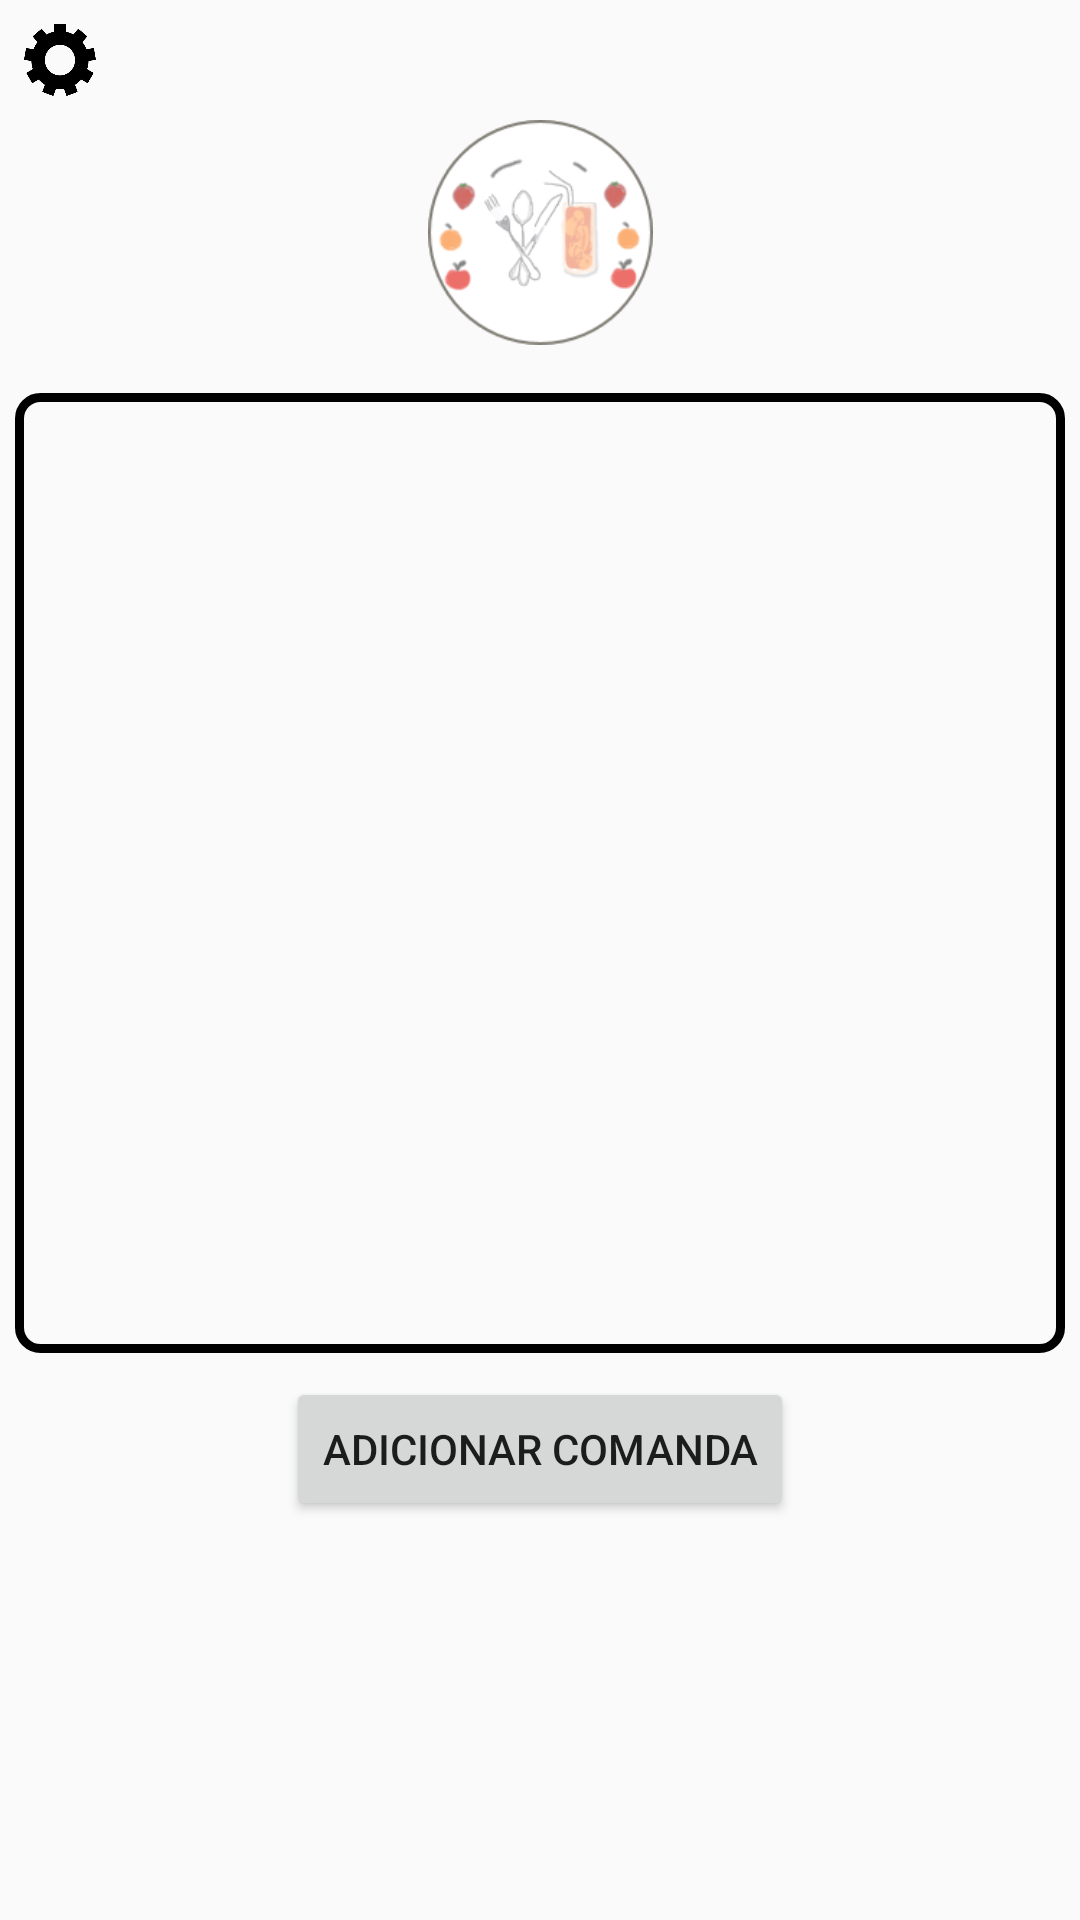

Point at icon controls on the screen. Image size 1080×1920, points as point (x, y).
options: point (60, 60)
